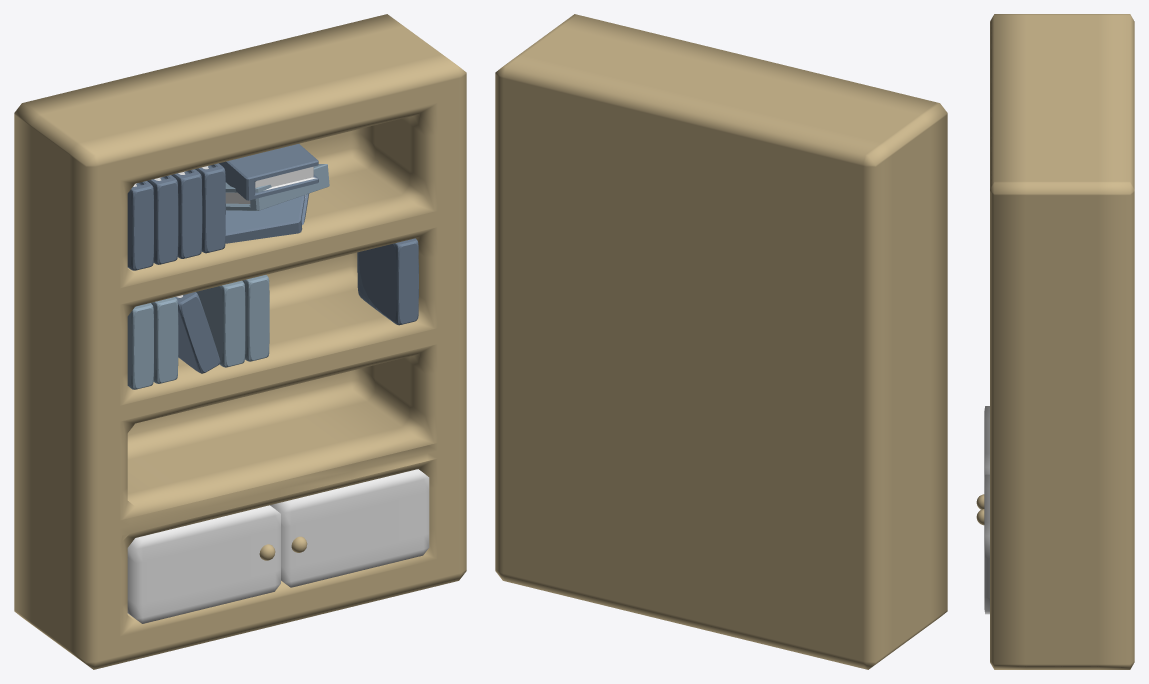
The model's file is Armario.fbx.
The picture shows the model from 3 angles, left to right: view 1: azimuth 30°, elevation 25°; view 2: azimuth 150°, elevation 25°; view 3: azimuth 270°, elevation 25°; orthographic projection. The views are drawn at different scales.
Parts seen in each view (by area): view 1: libreria, Cube.001, Cube.012, Cube.013, Cube.002, Cube.010, Cube.003, Cube.011, Cube.004; view 2: libreria; view 3: libreria.
Boxes of the visible parts, x1=… form: libreria: x1=14, y1=14, x2=466, y2=669; Cube.001: x1=127, y1=163, x2=225, y2=270; Cube.012: x1=196, y1=275, x2=269, y2=367; Cube.013: x1=357, y1=238, x2=418, y2=325; Cube.002: x1=127, y1=297, x2=178, y2=389; Cube.010: x1=219, y1=144, x2=318, y2=200; Cube.003: x1=225, y1=193, x2=309, y2=243; Cube.011: x1=175, y1=292, x2=220, y2=373; Cube.004: x1=225, y1=164, x2=329, y2=210; libreria: x1=495, y1=14, x2=947, y2=669; libreria: x1=976, y1=14, x2=1134, y2=669.
Size of the model in its own units: 65.8 by 85 by 24.99.
